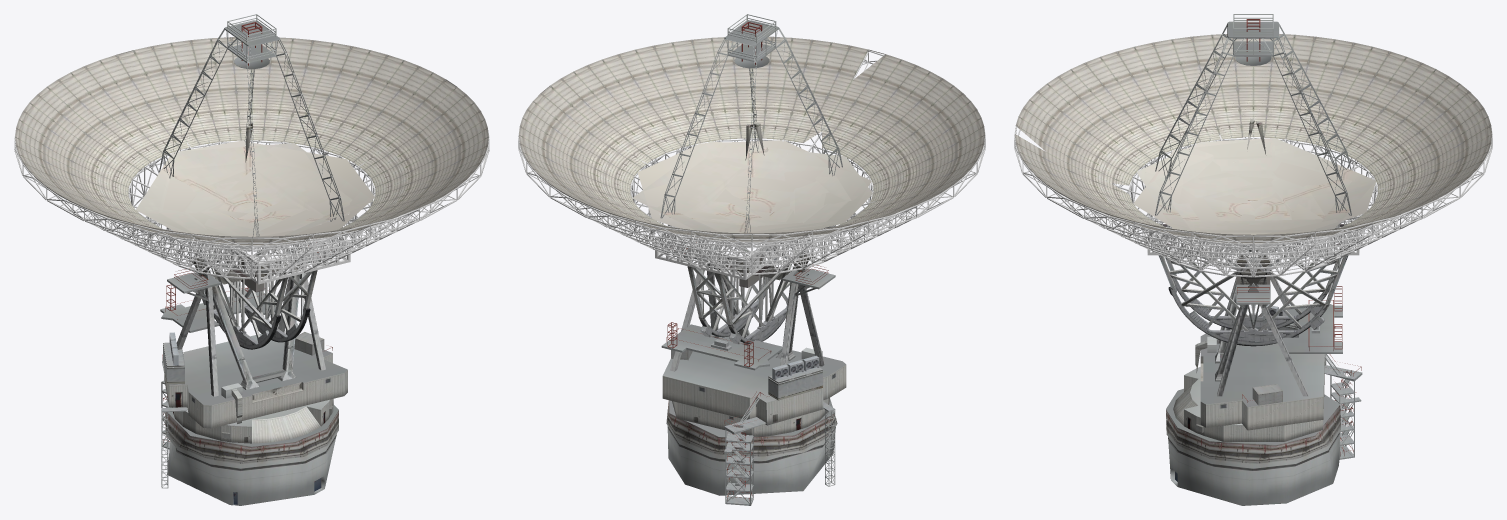
File: dsn_dish.glb
3 views of the same model, side by side, from view 1: azimuth 30°, elevation 25°; view 2: azimuth 150°, elevation 25°; view 3: azimuth 270°, elevation 25° (orthographic). The views are drawn at different scales.
Parts seen in each view (by area): view 1: dish, azimuth, truss_box, base; view 2: dish, azimuth, truss_box, base; view 3: dish, azimuth, truss_box, base.
Part boxes in pixels (x1,y1,x2,y2): dish: (15, 37, 488, 245); azimuth: (159, 14, 347, 488); truss_box: (14, 51, 489, 284); base: (165, 404, 338, 505); dish: (519, 36, 984, 241); azimuth: (660, 14, 846, 505); truss_box: (518, 50, 985, 280); base: (666, 399, 837, 495); dish: (1015, 34, 1491, 243); azimuth: (1153, 14, 1362, 459); truss_box: (1014, 108, 1492, 277); base: (1166, 388, 1340, 505).
Bounding box in the file's own units: 70.07 × 72.93 × 70.07.
Materials: 3 (2 with a texture image).
